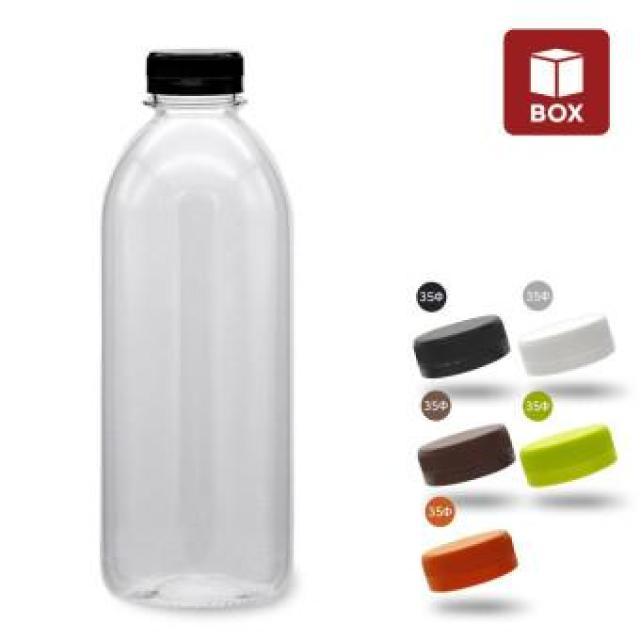bottle: (97, 44, 293, 604)
